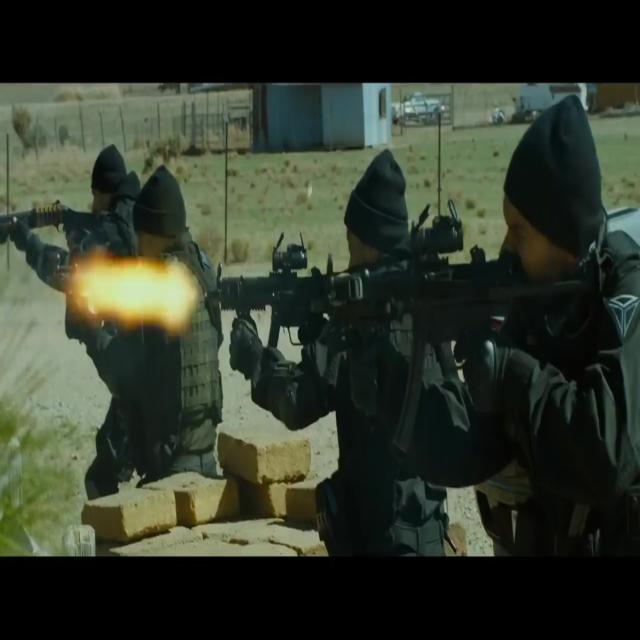Weapon: (309, 178, 620, 470), (205, 248, 379, 350), (38, 248, 199, 327), (0, 166, 108, 250), (90, 417, 144, 492)
